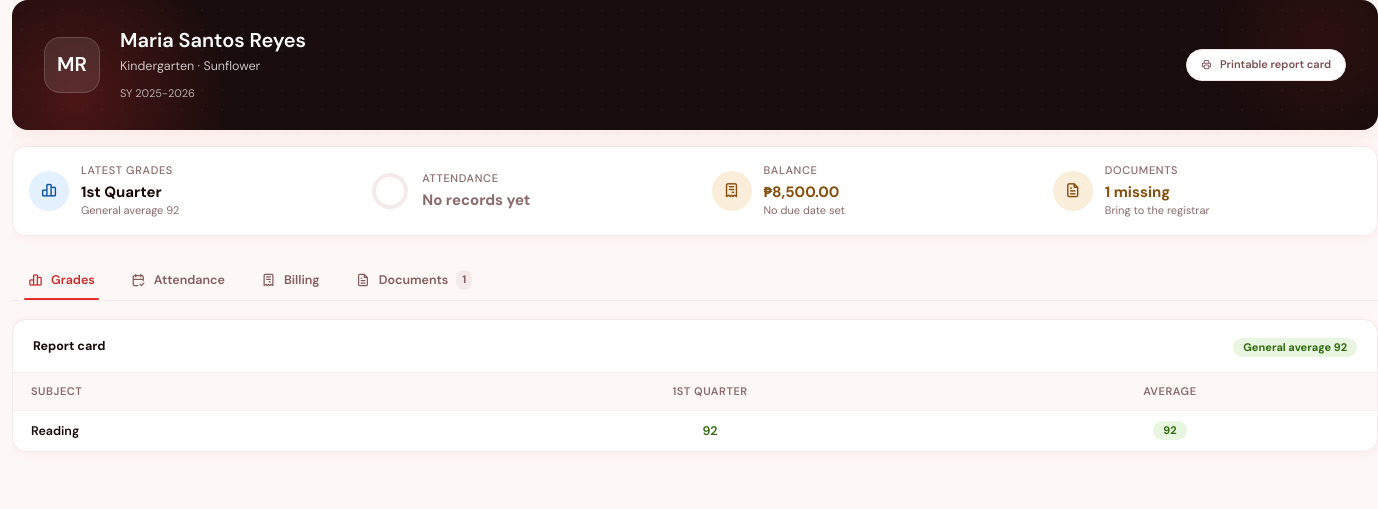
Test: GuardianChildPage — a failed fetch is never reported as 'nothing owed' › still shows a genuinely empty attendance record as empty
Check: the heading "Maria Santos Reyes" is shown, box [120,27,306,53]
Step 1. Click the tab "Attendance" → (178, 280), box [115,261,241,300]
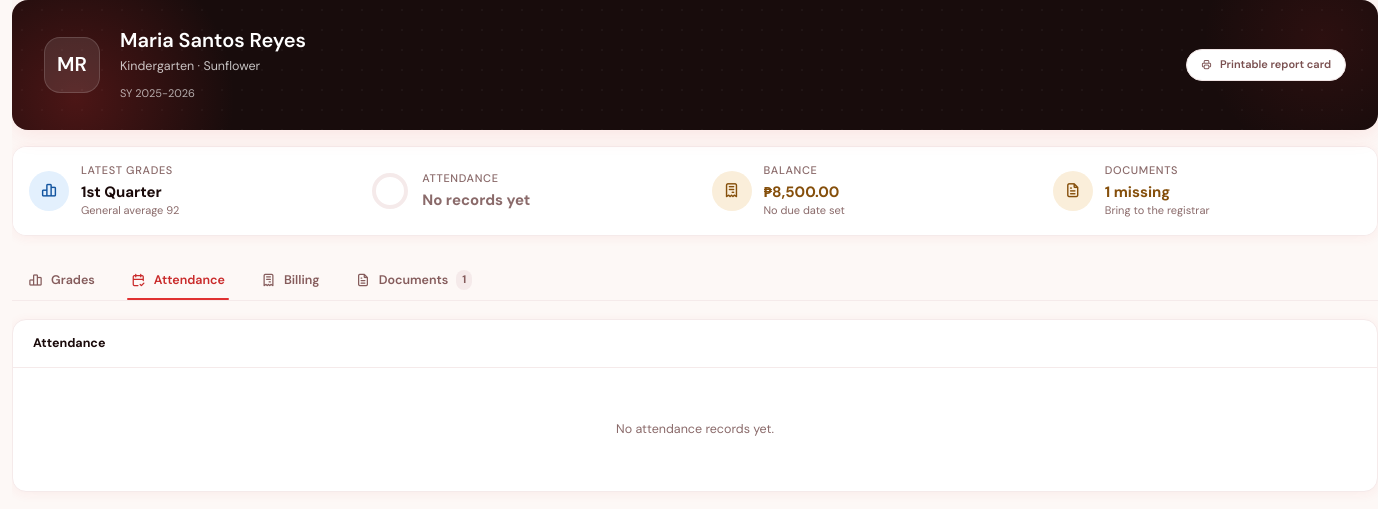
Check: the text "No attendance records yet." is shown, box [616,421,774,437]
